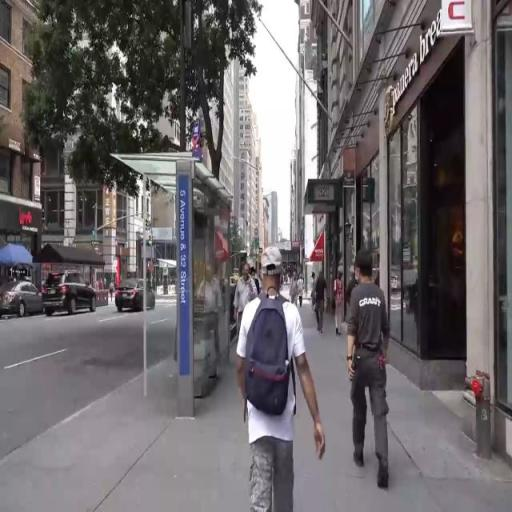person: (254, 247, 323, 512), (349, 256, 401, 484), (235, 260, 255, 343), (333, 273, 348, 333), (317, 266, 328, 337), (293, 271, 302, 310), (300, 272, 307, 308), (110, 279, 116, 301), (101, 279, 104, 289)
